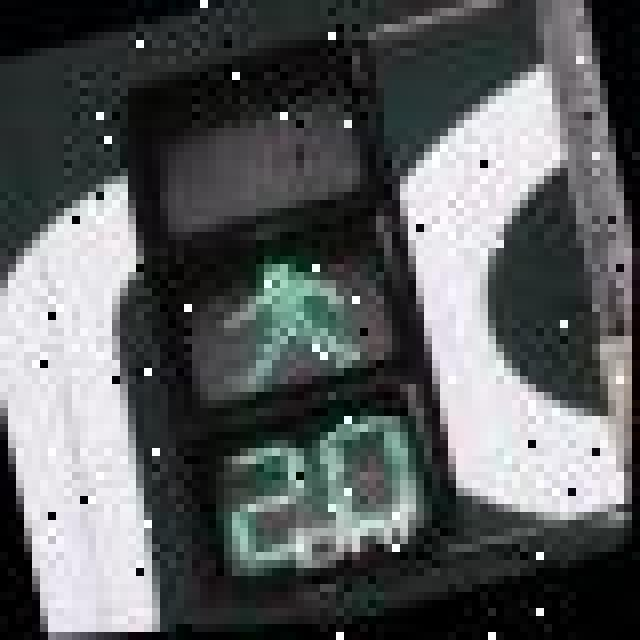greenlight: (104, 8, 440, 440)
